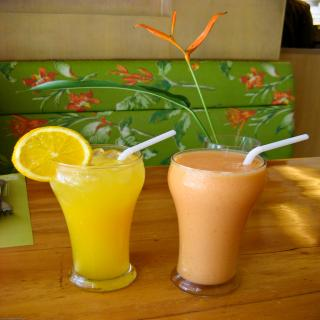Lemon: (9, 126, 94, 182)
